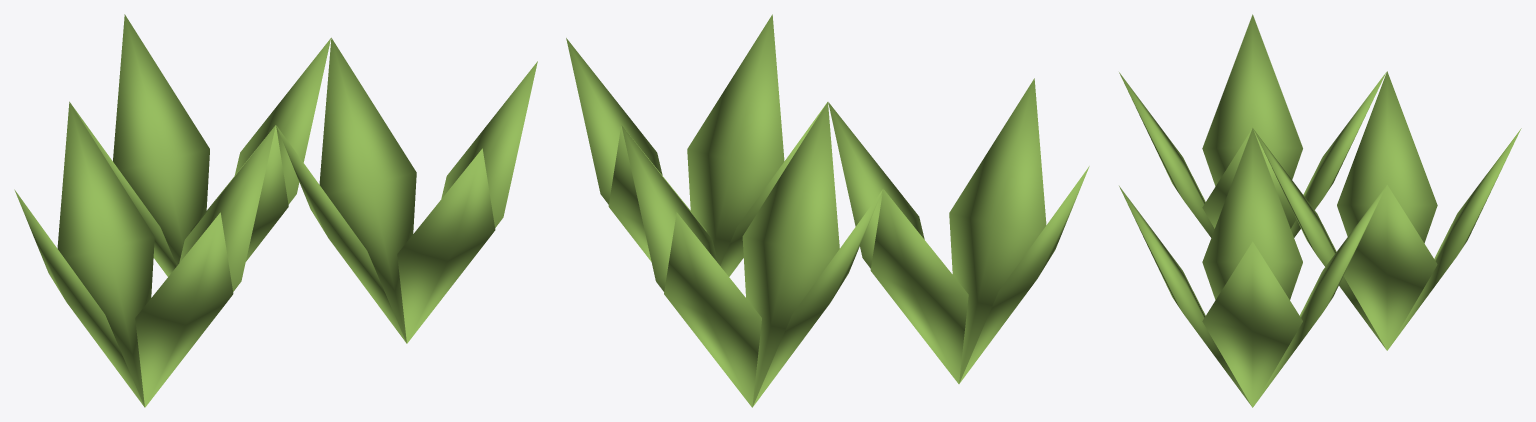
The model's file is crop_2_stage_2.fbx.
3 renders of one model, left to right at view 1: azimuth 30°, elevation 25°; view 2: azimuth 150°, elevation 25°; view 3: azimuth 270°, elevation 25°, orthographic. The views are drawn at different scales.
Parts seen in each view (by area): view 1: crop_2_stage_2; view 2: crop_2_stage_2; view 3: crop_2_stage_2.
Part boxes in pixels (bbox=[...]): crop_2_stage_2: bbox=[14, 14, 537, 407]; crop_2_stage_2: bbox=[566, 14, 1089, 407]; crop_2_stage_2: bbox=[1119, 14, 1521, 407].
Size of the model in its own units: 0.6382 by 0.2925 by 0.4786.
Materials: 1 (1 with a texture image).
